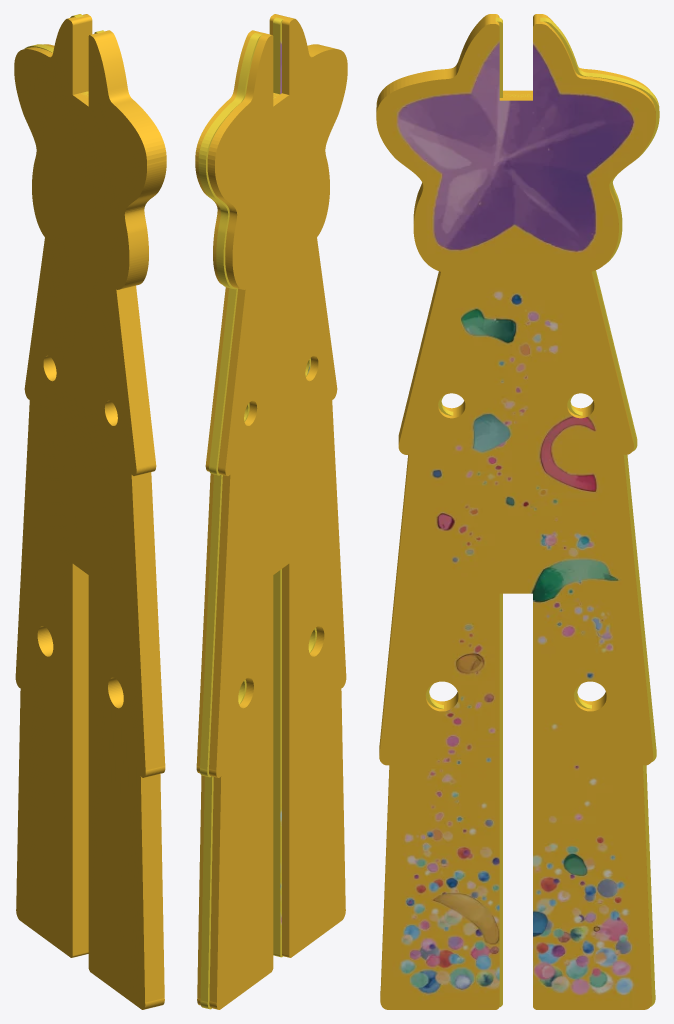
File: tall-stabilizer-03.glb
3 views of the same model, side by side, from view 1: azimuth 30°, elevation 25°; view 2: azimuth 150°, elevation 25°; view 3: azimuth 270°, elevation 25° (orthographic). The views are drawn at different scales.
Parts seen in each view (by area): view 1: tall-stabilizer-03; view 2: tall-stabilizer-03; view 3: tall-stabilizer-03.
Boxes of the visible parts, bbox=[...] form: tall-stabilizer-03: bbox=[14, 14, 166, 1009]; tall-stabilizer-03: bbox=[195, 14, 347, 1009]; tall-stabilizer-03: bbox=[376, 14, 659, 1009].
Bounding box in the file's own units: 24 × 1095 × 285.
4 materials, 2 textured.
